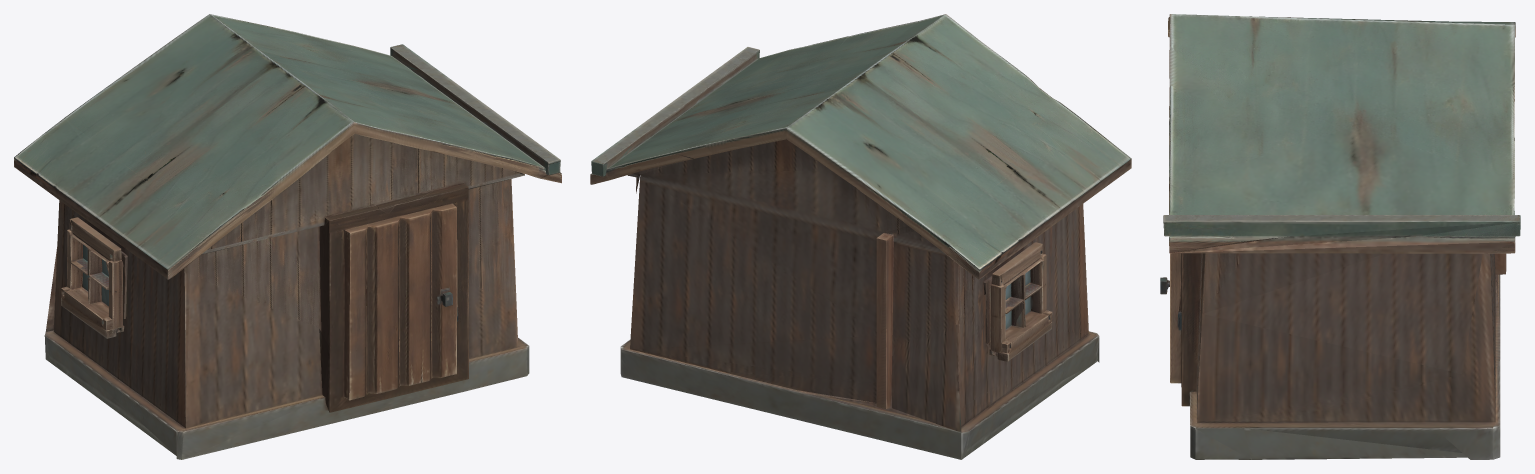
File: h049-outbuilding-pbr-v1.glb
3 views of the same model, side by side, from view 1: azimuth 30°, elevation 25°; view 2: azimuth 150°, elevation 25°; view 3: azimuth 270°, elevation 25° (orthographic). The views are drawn at different scales.
Parts seen in each view (by area): view 1: output_unwrapped; view 2: output_unwrapped; view 3: output_unwrapped.
Part boxes in pixels (box(x1,y1,x2,y2)): output_unwrapped: box(14, 14, 561, 459); output_unwrapped: box(590, 14, 1131, 459); output_unwrapped: box(1160, 14, 1520, 459).
Size of the model in its own units: 1.9 by 1.41 by 1.34.
2 materials, 2 textured.
